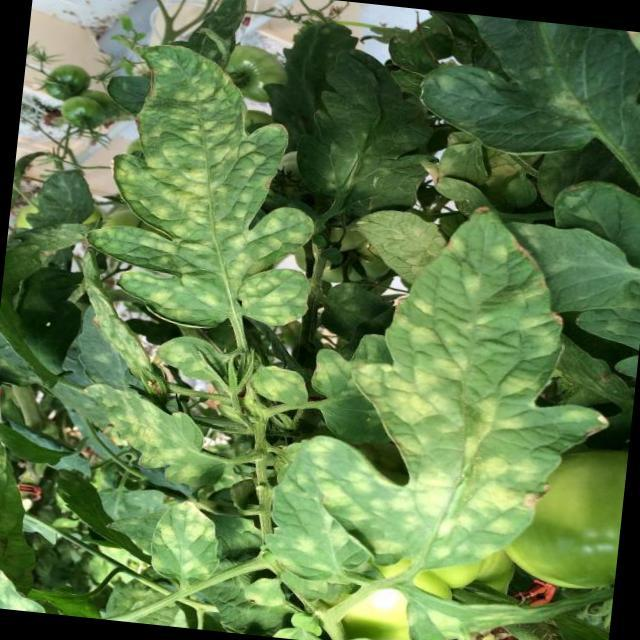Leaf Mold: (309, 197, 586, 581), (79, 36, 332, 341), (72, 382, 241, 494), (260, 485, 387, 596), (347, 205, 458, 305), (402, 585, 559, 640), (145, 491, 224, 587), (245, 358, 317, 408), (151, 333, 220, 384)
